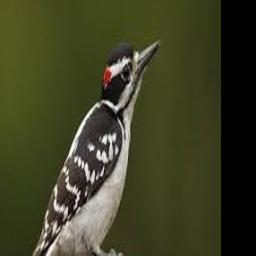Woodpecker: (24, 38, 160, 256)
